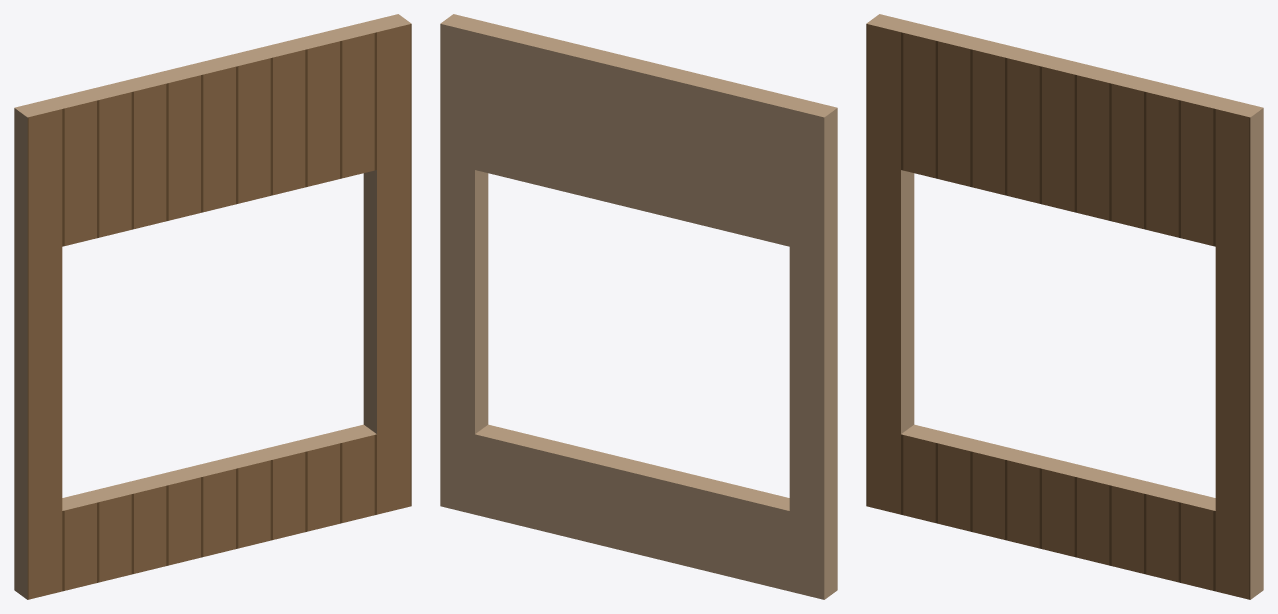
The model's file is Wall2_C9_05.fbx.
The picture shows the model from 3 angles, left to right: view 1: azimuth 30°, elevation 25°; view 2: azimuth 150°, elevation 25°; view 3: azimuth 330°, elevation 25°; orthographic projection.
Parts seen in each view (by area): view 1: Wall2_C9_05; view 2: Wall2_C9_05; view 3: Wall2_C9_05.
Boxes of the visible parts, x1,y1,x2,y2 form: Wall2_C9_05: (14, 14, 411, 599); Wall2_C9_05: (440, 14, 837, 599); Wall2_C9_05: (866, 14, 1263, 599).
Size of the model in its own units: 250 by 300 by 15.
